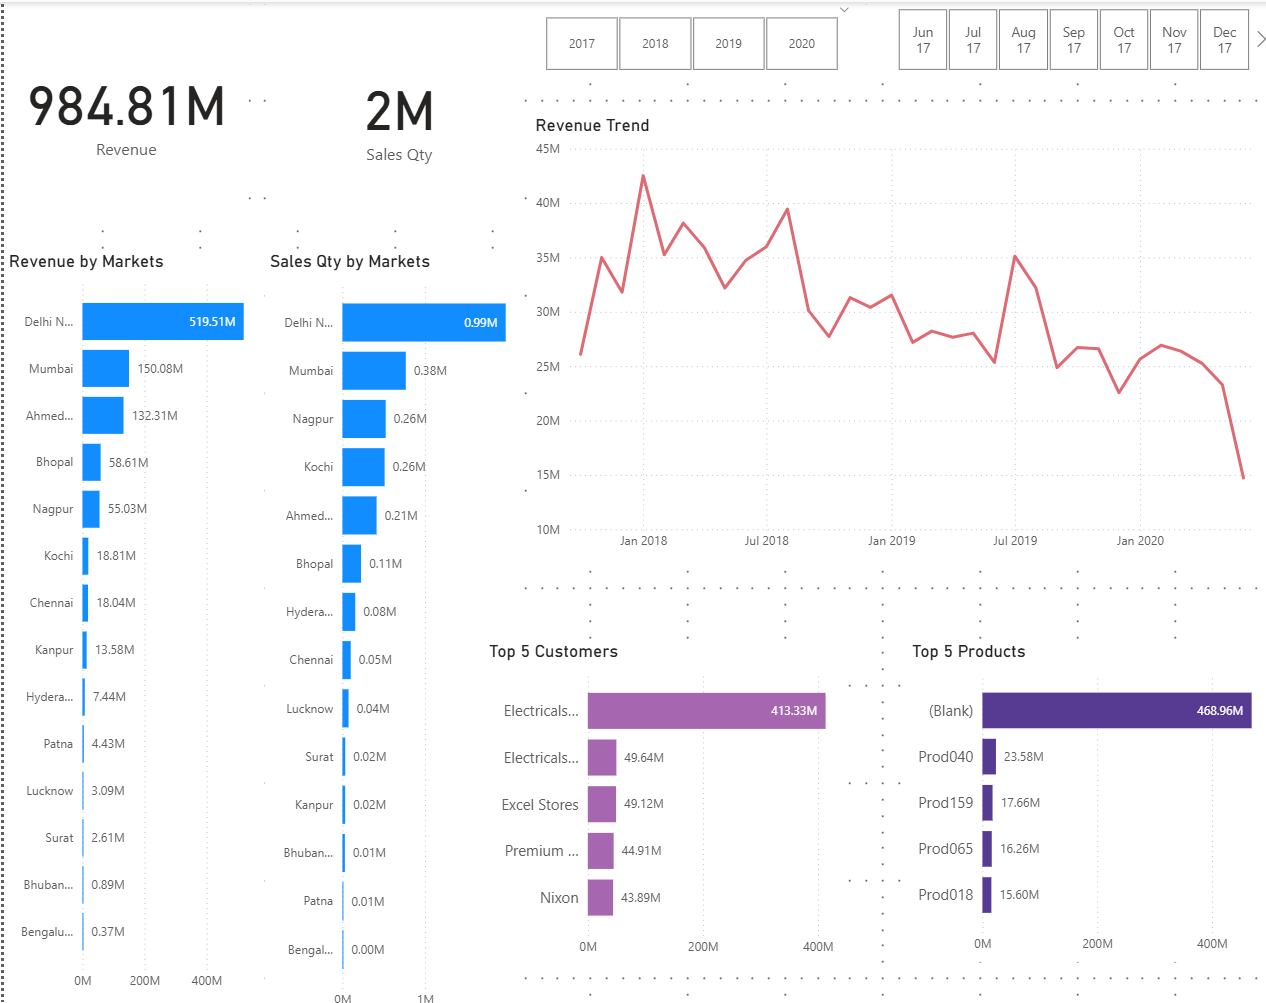

Layout of this report page (visuals, bound fields, positions):
{"tool":"powerbi","page":{"name":"Page 1","canvas":[1250,1000],"ordinal":0},"visuals":[{"type":"card","fields":{"Values":["BaseMeasures.Revenue"]},"box":[0,0,240.7,211.2],"z":0},{"type":"card","fields":{"Values":["BaseMeasures.Sales Qty"]},"box":[270.3,0,237.8,221.5],"z":1000},{"type":"barChart","title":"Revenue by Markets","fields":{"Y":["BaseMeasures.Revenue"],"Category":["sales markets.markets_name"]},"box":[0,245.2,257,737],"z":2000},{"type":"barChart","title":"Sales Qty by Markets","fields":{"Y":["BaseMeasures.Sales Qty"],"Category":["sales markets.markets_name"]},"box":[257,245.2,251.1,754.7],"z":3000},{"type":"slicer","fields":{"Values":["sales date.year"]},"box":[508.1,0,336.7,73.8],"z":4000},{"type":"slicer","fields":{"Values":["sales date.cy_date"]},"box":[855.1,0,394.3,73.8],"z":5000},{"type":"barChart","title":"Top 5 Customers","fields":{"Y":["BaseMeasures.Revenue"],"Category":["sales customers.custmer_name"]},"box":[472.6,629.2,357.4,319],"z":6000},{"type":"barChart","title":"Top 5 Products","fields":{"Y":["BaseMeasures.Revenue"],"Category":["sales products.product_code"]},"box":[889.1,629.2,360.4,316.1],"z":7000},{"type":"lineChart","title":"Revenue Trend","fields":{"Y":["BaseMeasures.Revenue"],"Category":["sales date.cy_date"]},"box":[518.4,110.8,731.1,438.6],"z":8000}]}

Visuals, with their boxes in screenshot pixels (x1, y1, x2, y2), scaled from the page's 1250x1000 canvas onto the 1266x1003 screenshot:
card - BaseMeasures.Revenue: 0, 0, 244, 212
card - BaseMeasures.Sales Qty: 274, 0, 515, 222
"Revenue by Markets" barChart: 0, 246, 260, 985
"Sales Qty by Markets" barChart: 260, 246, 515, 1002
slicer - sales date.year: 515, 0, 856, 74
slicer - sales date.cy_date: 866, 0, 1265, 74
"Top 5 Customers" barChart: 479, 631, 841, 951
"Top 5 Products" barChart: 900, 631, 1265, 948
"Revenue Trend" lineChart: 525, 111, 1265, 551
